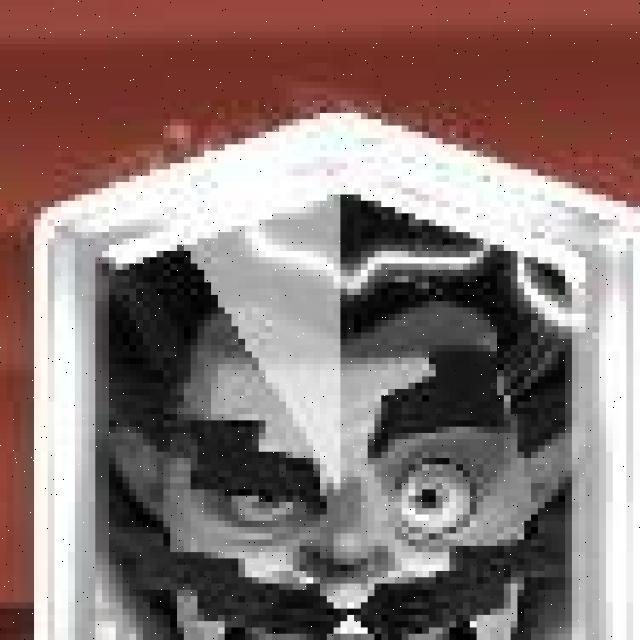Electro_Wizard: (37, 114, 640, 640)
